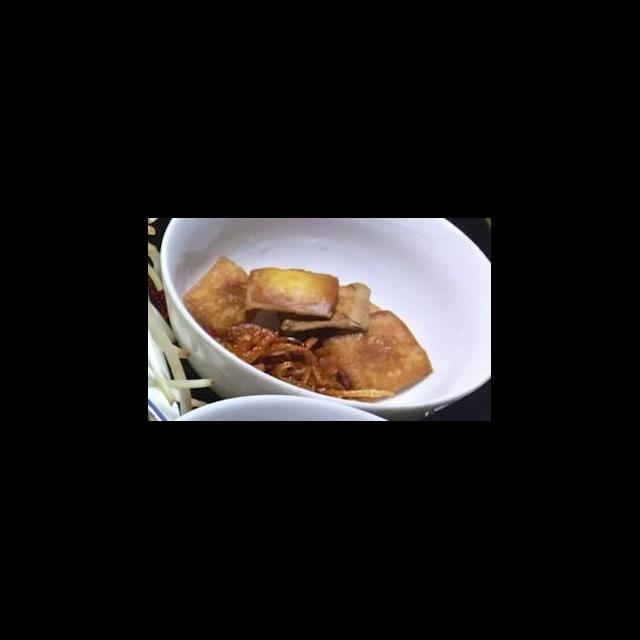banh da: (318, 308, 436, 406), (178, 252, 268, 344), (240, 264, 342, 324), (274, 280, 374, 336)
